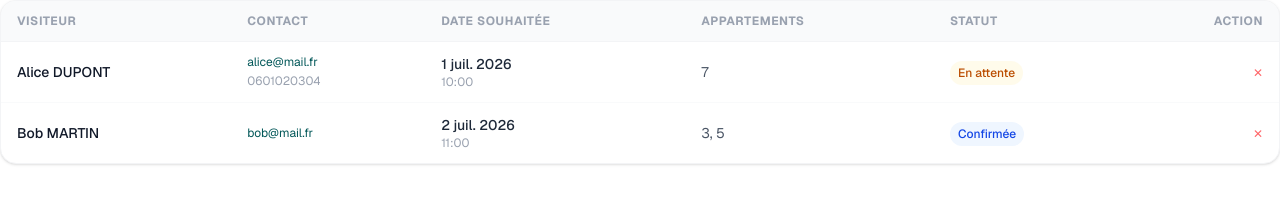
Test: VisitsTable — suppression › affiche un message d'erreur et conserve la visite si la suppression échoue
This screenshot has width=1280, height=215.
Click the button titled "Supprimer la visite" in the row of "DUPONT".
click(1258, 73)  # box [1253,65,1263,81]
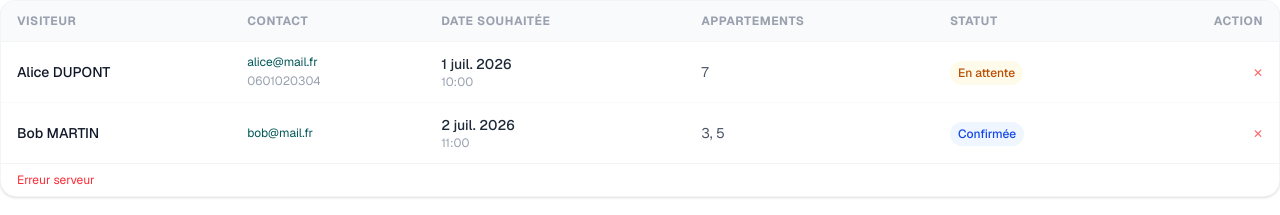
Expected: the text "Alice DUPONT" is shown, [1,42,231,102]
Result: the text "Erreur serveur" is shown at [1,163,1279,196]
